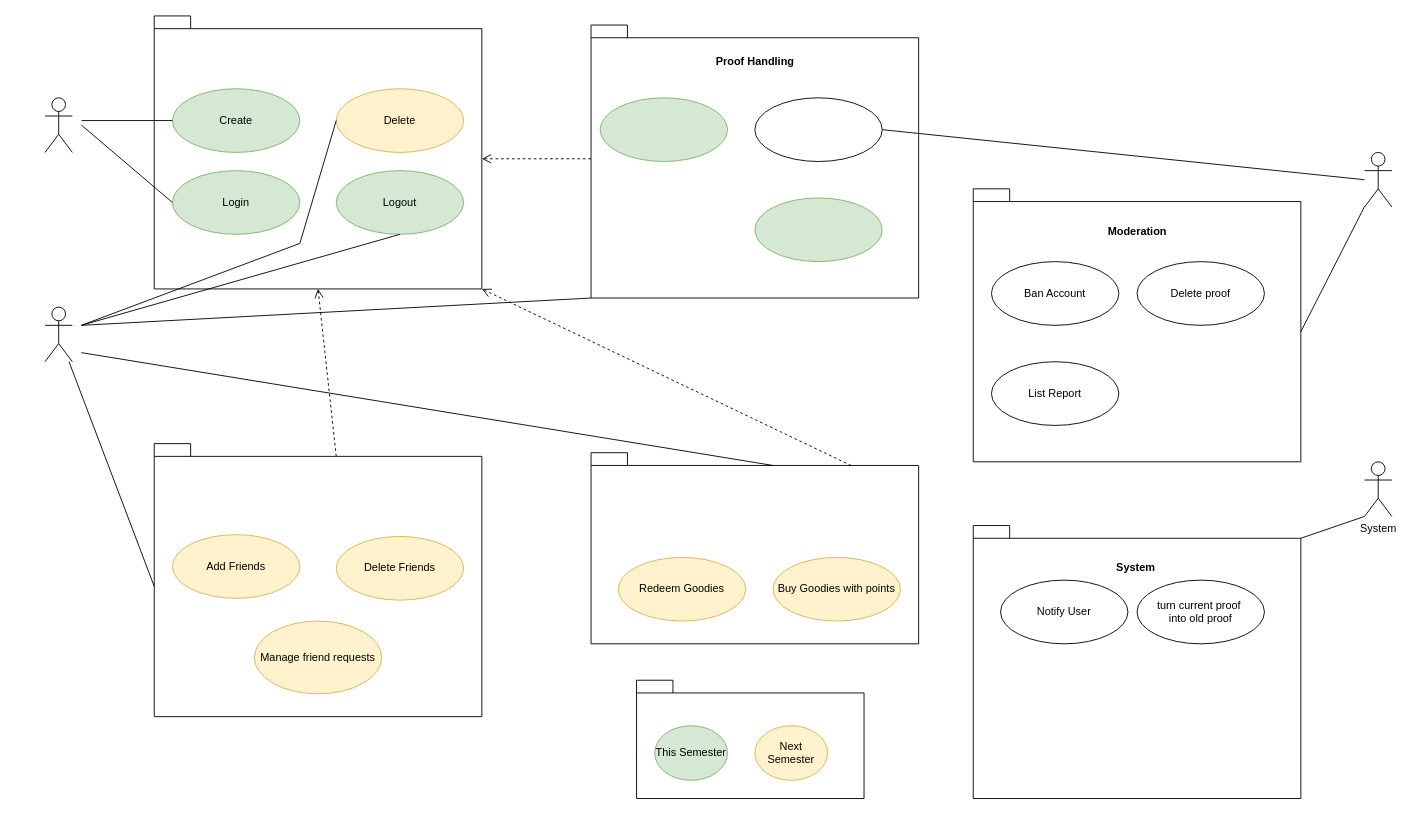
This 1419x814 diagram has some shape labels left out. Here are the shapes that lost their labels. From the top down, the box of each, then its label:
(44, 97, 72, 152): not logged in user
(599, 97, 728, 162): Crud -U
(754, 97, 882, 162): Report
(153, 15, 482, 289): Account
(1364, 152, 1392, 207): Moderator
(754, 197, 882, 262): Judge
(44, 306, 72, 362): logged in user
(590, 452, 919, 644): Shop
(153, 443, 482, 717): Social Networking
(636, 679, 864, 799): Legend
